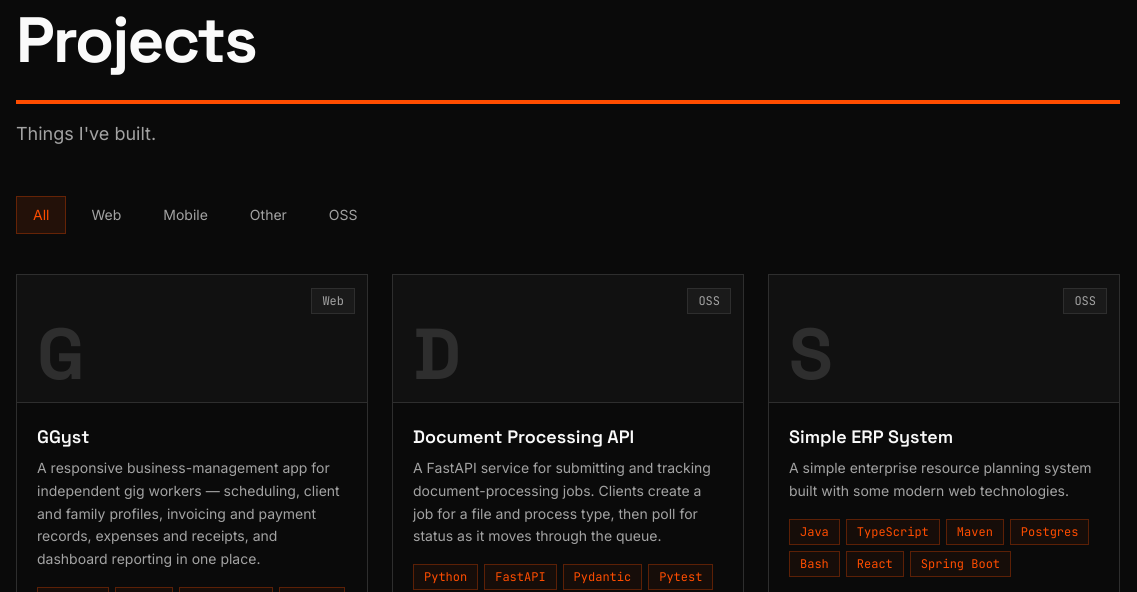
Test case: Projects – filter buttons › filtering by "Web" shows only Web projects
The image size is (1137, 592).
Click the button "Web" at (106, 215), box x1=74 y1=196 x2=138 y2=234
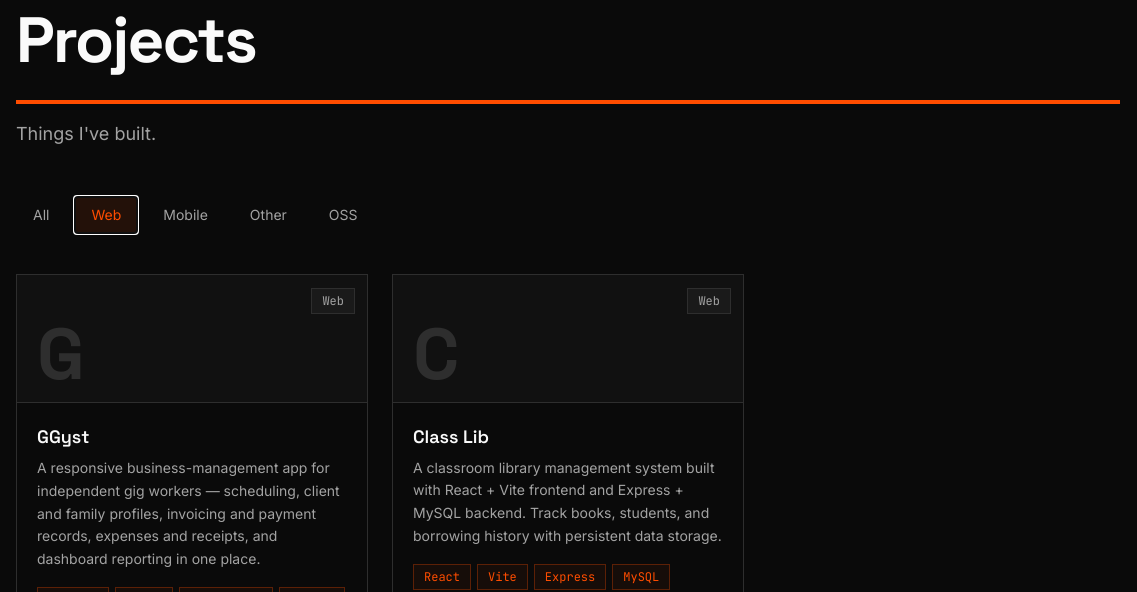
Expected: the heading "GGyst" is shown, x1=37 y1=425 x2=89 y2=448
Expected: the heading "Document Processing API" is gone
Expected: the heading "Simple ERP System" is gone
